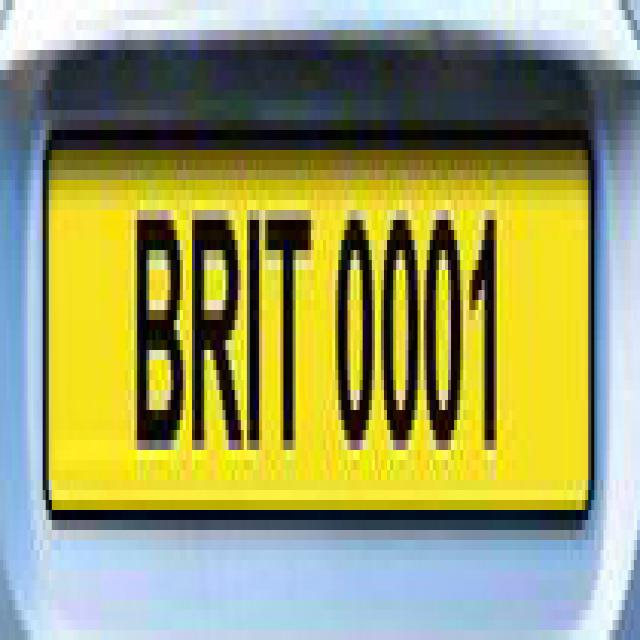0: (378, 198, 427, 484), (423, 178, 465, 486), (332, 190, 377, 471)
1: (467, 194, 511, 485)
B: (130, 194, 188, 483)
I: (241, 192, 265, 463)
R: (184, 188, 247, 473)
T: (264, 200, 313, 454)
